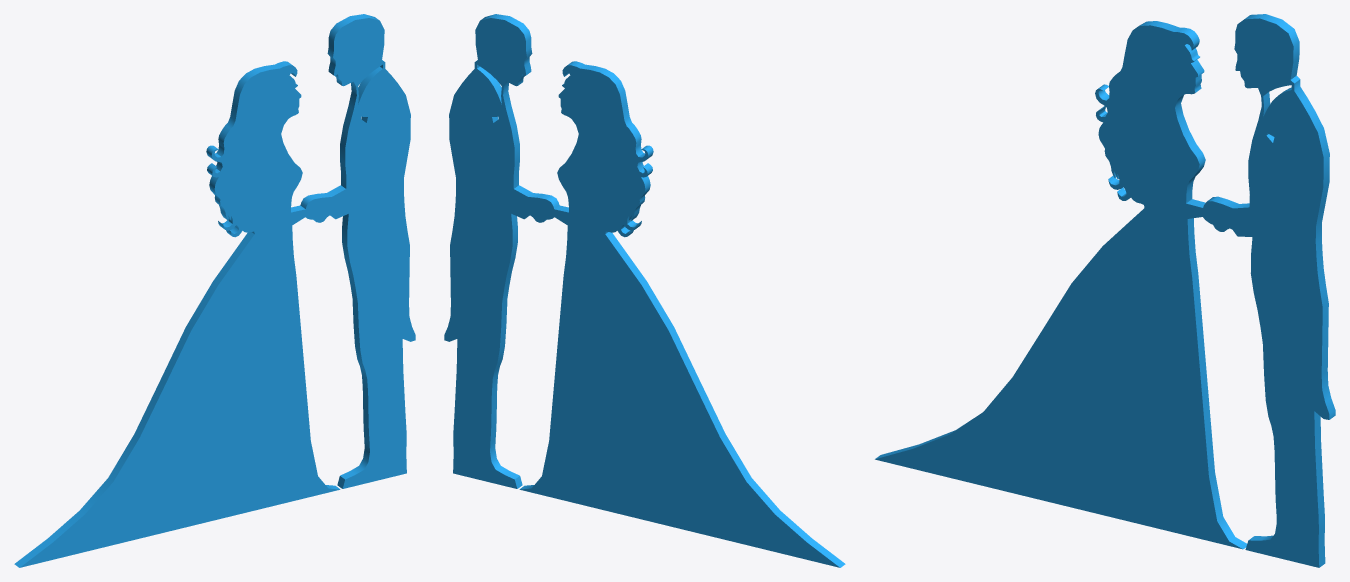
File: Cake_ThemeWedding_E.FBX
3 views of the same model, side by side, from view 1: azimuth 30°, elevation 25°; view 2: azimuth 150°, elevation 25°; view 3: azimuth 330°, elevation 25° (orthographic). The views are drawn at different scales.
Parts seen in each view (by area): view 1: Cake_ThemeWedding_E; view 2: Cake_ThemeWedding_E; view 3: Cake_ThemeWedding_E.
Part boxes in pixels (x1,y1,x2,y2): Cake_ThemeWedding_E: (14,14,415,567); Cake_ThemeWedding_E: (444,14,845,567); Cake_ThemeWedding_E: (875,14,1335,567).
Bounding box in the file's own units: 71726 × 80601 × 1666.
